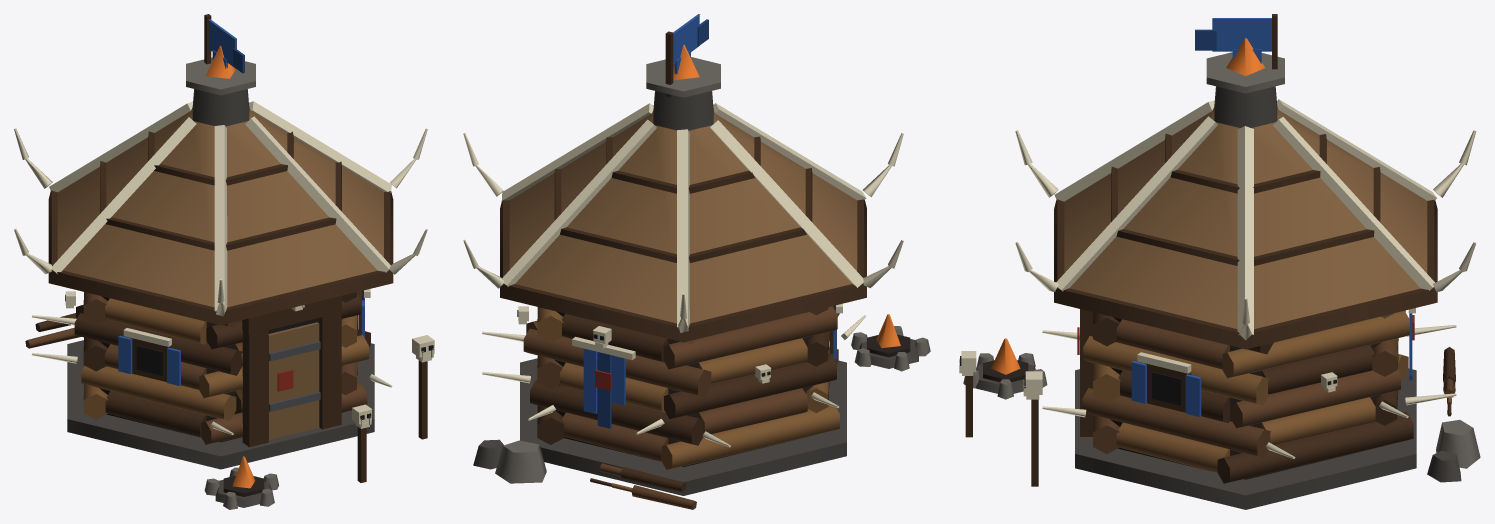
The model's file is orc-hut.glb.
3 renders of one model, left to right at view 1: azimuth 30°, elevation 25°; view 2: azimuth 150°, elevation 25°; view 3: azimuth 270°, elevation 25°, orthographic. The views are drawn at different scales.
Visible parts, largest first — view 1: orc-hut; view 2: orc-hut; view 3: orc-hut.
Part boxes in pixels (left/top/right/bottom): orc-hut: left=14, top=14, right=434, bottom=509; orc-hut: left=463, top=14, right=930, bottom=509; orc-hut: left=959, top=14, right=1480, bottom=509.
Size of the model in its own units: 7.31 by 6.24 by 7.17.
Materials: 1 (1 with a texture image).
